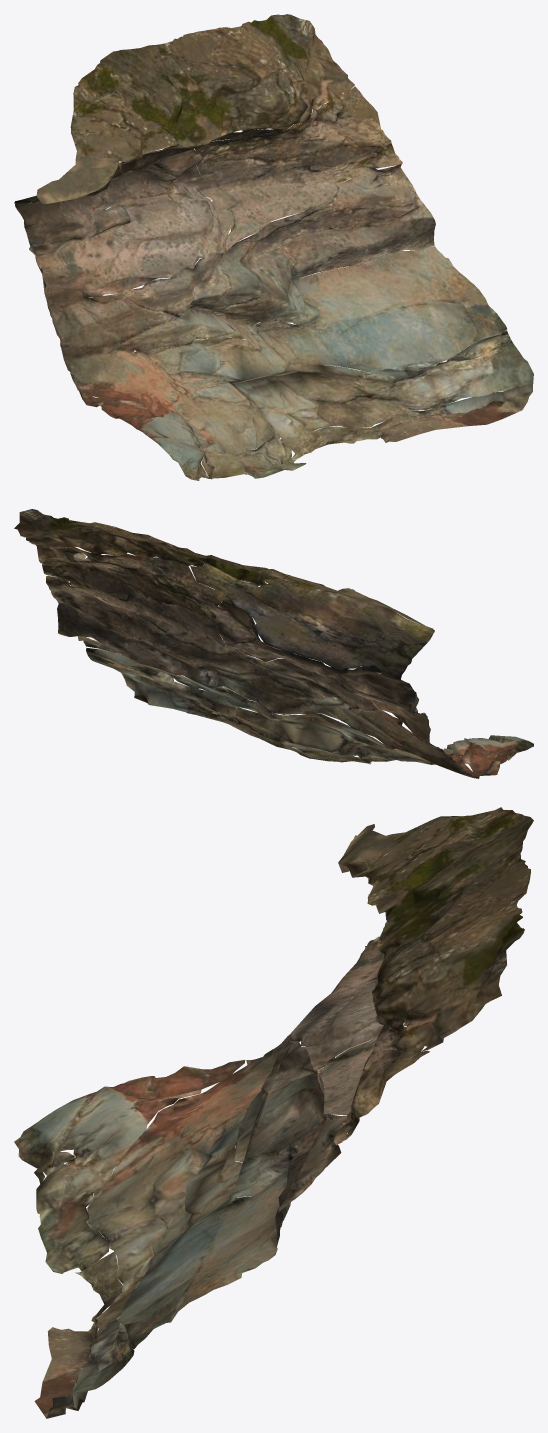
Rendered from rock_face_01.glb.
3 views of the same model, one above another, from view 1: azimuth 30°, elevation 25°; view 2: azimuth 150°, elevation 25°; view 3: azimuth 270°, elevation 25° (orthographic). The views are drawn at different scales.
Parts seen in each view (by area): view 1: rock_face_01; view 2: rock_face_01; view 3: rock_face_01.
Part boxes in pixels (bbox=[...]): rock_face_01: bbox=[14, 14, 533, 480]; rock_face_01: bbox=[14, 509, 533, 778]; rock_face_01: bbox=[14, 807, 533, 1418].
Size of the model in its own units: 4.95 by 3.57 by 3.83.
Materials: 1 (1 with a texture image).
